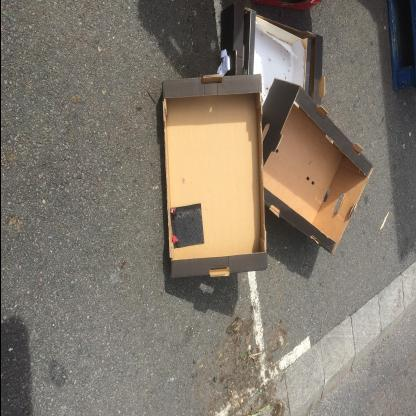karton: (160, 72, 268, 282), (261, 79, 374, 257), (220, 3, 325, 113)
